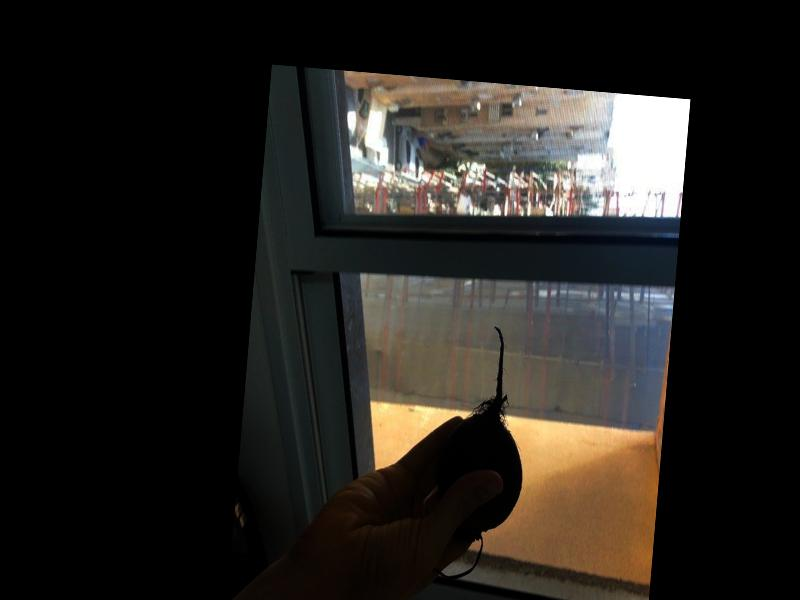Beet: (403, 320, 534, 583)
